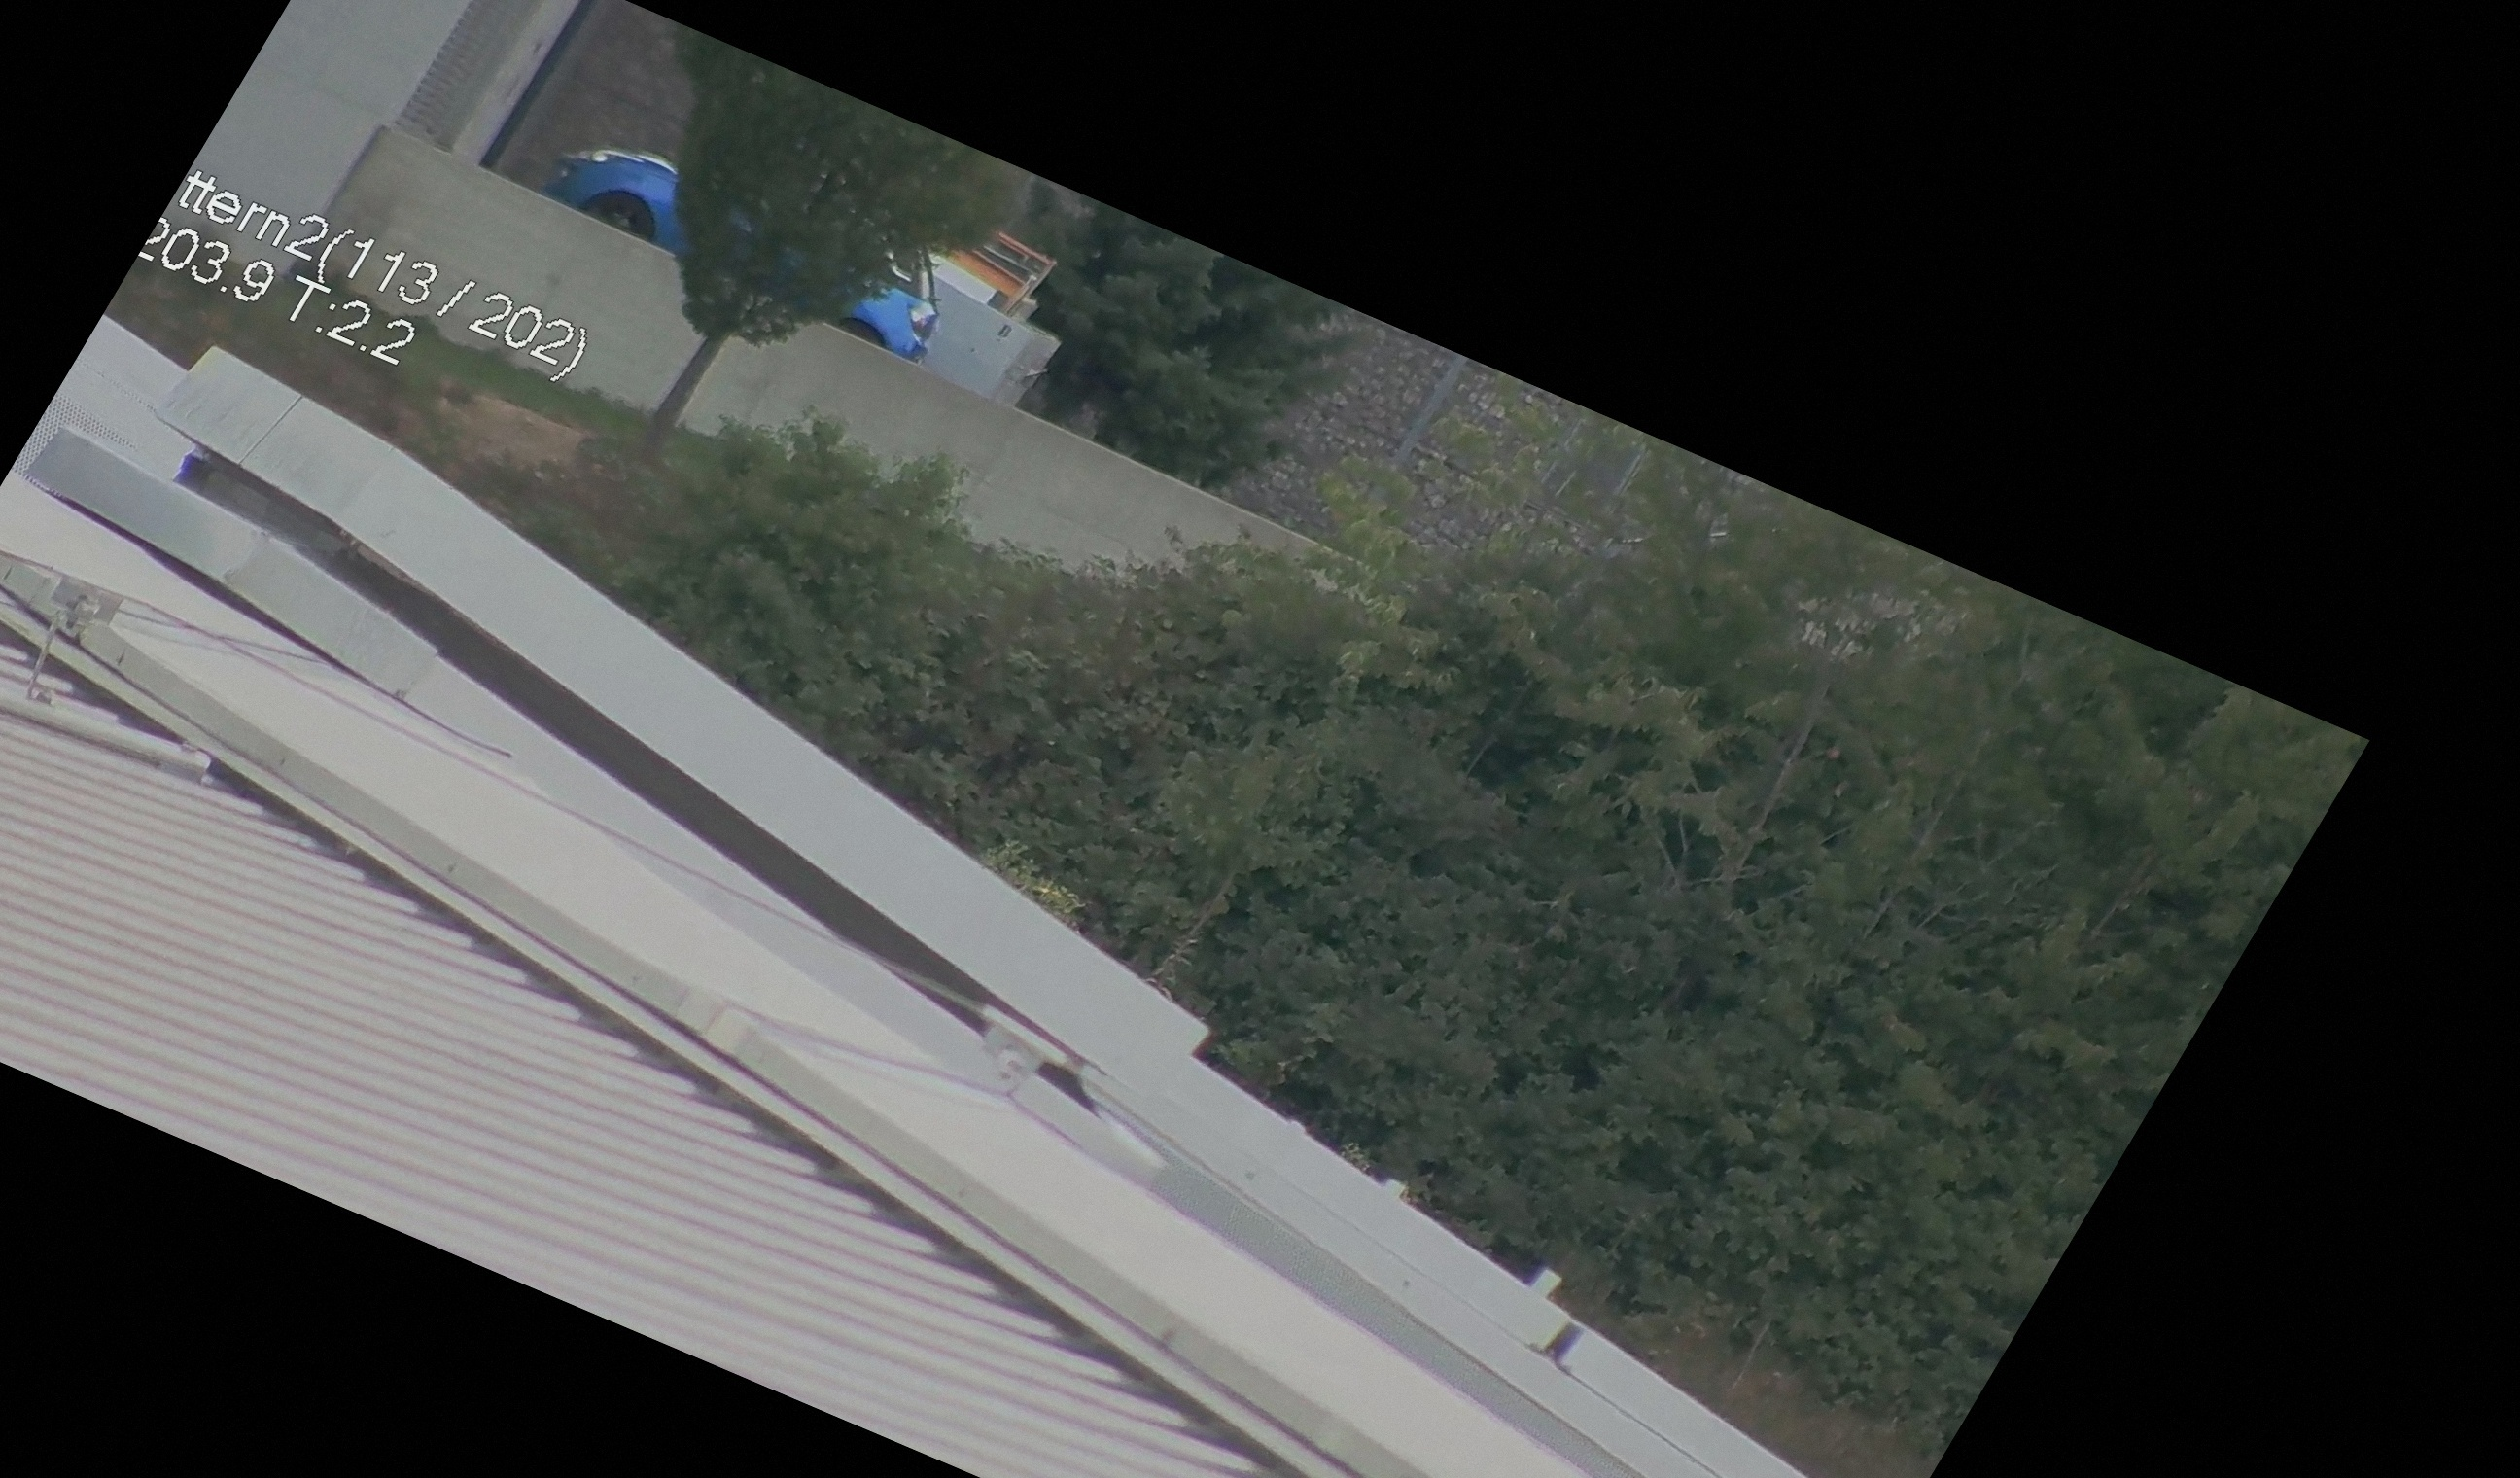Other: (30, 0, 216, 172)
